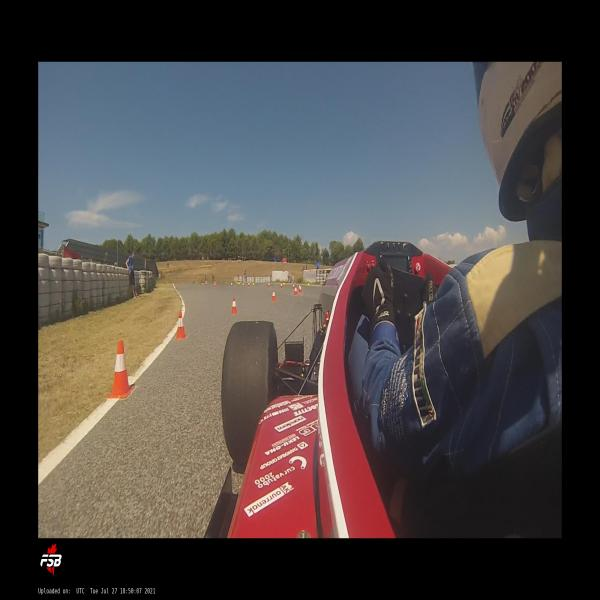orange_cone: (106, 340, 134, 398), (176, 310, 186, 340), (230, 297, 238, 314), (271, 289, 277, 301), (294, 286, 298, 295), (299, 284, 302, 294), (280, 282, 283, 288), (298, 284, 300, 290), (292, 283, 294, 289), (268, 282, 270, 288), (248, 280, 250, 286), (214, 282, 216, 288), (230, 280, 232, 286)
yellow_cone: (307, 280, 310, 286), (283, 279, 285, 285), (252, 280, 254, 286), (242, 280, 244, 285)
